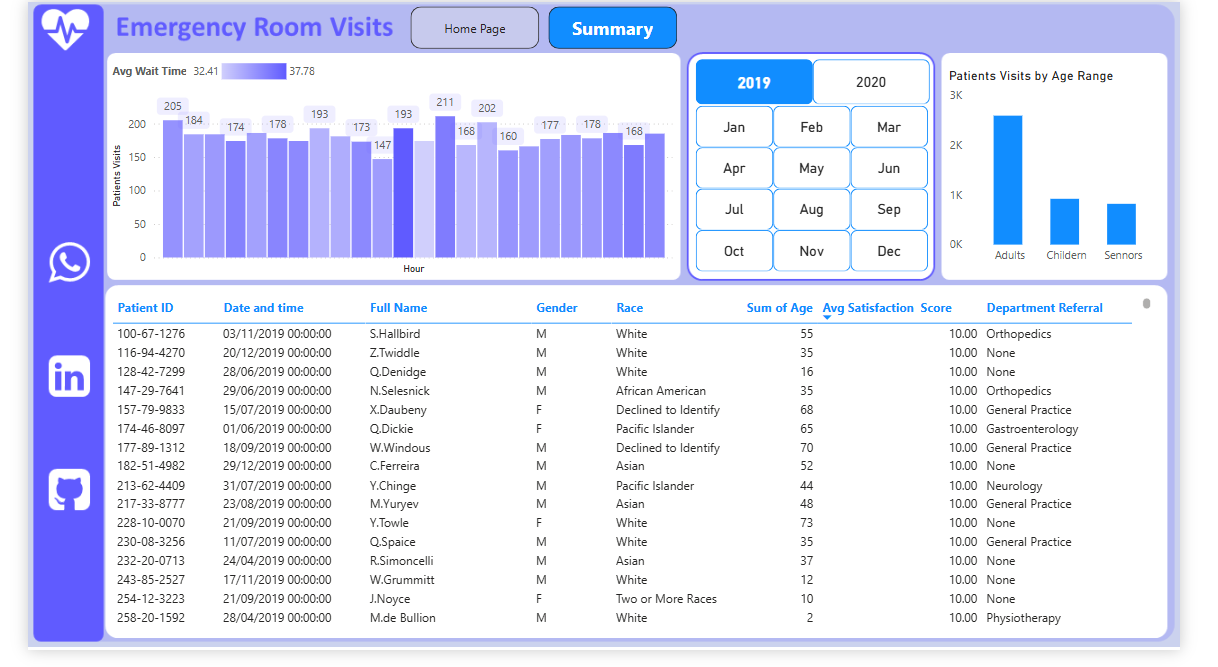

The page's visual inventory and layout, read from the dashboard file:
{"tool":"powerbi","page":{"name":"Summary","canvas":[1280,720],"ordinal":1},"visuals":[{"type":"advancedSlicerVisual","fields":{"Values":["calendar.Month"]},"box":[736.5,111.4,270.4,197.2],"z":0,"group":"g1"},{"type":"tableEx","fields":{"Values":["Hospital ER.Patient ID","calendar.Date","Hospital ER.Full Name","Hospital ER.Gender","Hospital ER.Race","Hospital ER.Age","calculation.Avg Satisfaction  Score","Hospital ER.Department Referral"]},"box":[89.1,322.9,1164.3,373.8],"z":0},{"type":"advancedSlicerVisual","fields":{"Values":["calendar.Year"]},"box":[736.5,58.9,270.4,60.4],"z":1000,"group":"g1"},{"type":"columnChart","fields":{"Y":["calculation.Patients Visits"],"Category":["Hospital ER.Hour"]},"box":[89.1,60.4,633.1,246.5],"z":1000},{"type":"clusteredColumnChart","title":"Patients Visits by Age Range","fields":{"Y":["calculation.Patients Visits","calculation.Patients Visist Dumny"],"Category":["Hospital ER.Age Range"]},"box":[1018,73.2,246.5,225.9],"z":2000},{"type":"group","id":"g1","title":"Group 1","box":[736.5,58.9,270.4,249.7],"z":3000},{"type":"pageNavigator","box":[424.7,4.8,297.4,47.7],"z":4000}]}

Visuals, with their boxes in screenshot pixels (x1, y1, x2, y2), scaled from the page's 1280x720 canvas onto the 1218x667 screenshot:
advancedSlicerVisual - calendar.Month: (701, 103, 958, 286)
tableEx - Hospital ER.Patient ID x calendar.Date: (85, 299, 1193, 645)
advancedSlicerVisual - calendar.Year: (701, 55, 958, 111)
columnChart - calculation.Patients Visits x Hospital ER.Hour: (85, 56, 687, 284)
"Patients Visits by Age Range" clusteredColumnChart: (969, 68, 1203, 277)
"Group 1" group: (701, 55, 958, 286)
pageNavigator: (404, 4, 687, 49)
